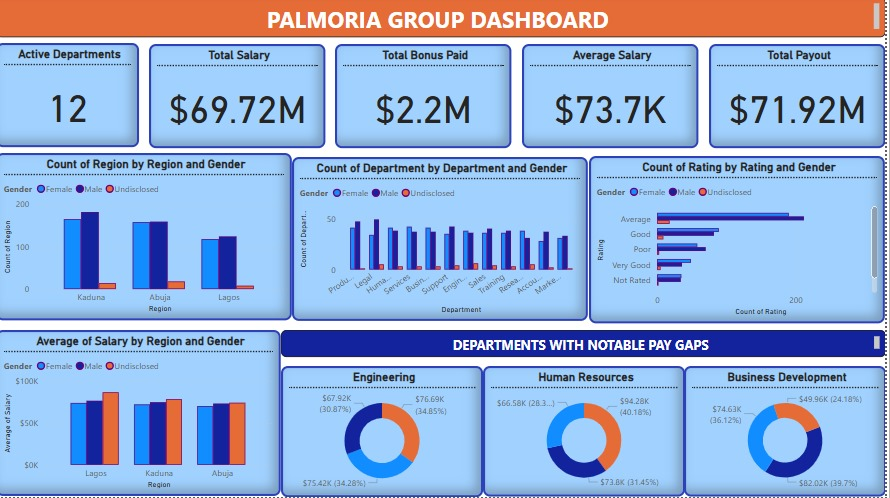

Layout of this report page (visuals, bound fields, positions):
{"tool":"powerbi","page":{"name":"Page 1","canvas":[1280,720],"ordinal":0},"visuals":[{"type":"textbox","box":[0,0,1280.7,57.8],"z":0},{"type":"clusteredColumnChart","fields":{"Category":["Palmoria Merged.Region"],"Series":["Palmoria Merged.Gender"],"Y":["CountNonNull(Palmoria Merged.Region)"]},"box":[0,225.1,426,241],"z":1000},{"type":"clusteredBarChart","fields":{"Category":["Palmoria Merged.Rating"],"Y":["CountNonNull(Palmoria Merged.Rating)"],"Series":["Palmoria Merged.Gender"]},"box":[854.5,229,426.2,241],"z":2000},{"type":"clusteredColumnChart","fields":{"Series":["Palmoria Merged.Gender"],"Y":["Avg(Palmoria Merged.Salary)"],"Category":["Palmoria Merged.Region"]},"box":[0,480,410.3,239],"z":3000},{"type":"donutChart","title":"Business Development","fields":{"Y":["Avg(Palmoria Merged.Salary)"],"Category":["Palmoria Merged.Gender"],"Series":["Palmoria Merged.Department"]},"box":[990,531.1,291.1,187.8],"z":4000},{"type":"donutChart","title":"Engineering","fields":{"Y":["Avg(Palmoria Merged.Salary)"],"Category":["Palmoria Merged.Gender","Palmoria Merged.Department"]},"box":[410,531,291,189],"z":5000},{"type":"donutChart","title":"Human Resources","fields":{"Y":["Avg(Palmoria Merged.Salary)"],"Category":["Palmoria Merged.Gender","Palmoria Merged.Department"]},"box":[701,531,291,188],"z":6000},{"type":"textbox","box":[410,480,871,39],"z":7000},{"type":"card","title":"Active Departments","fields":{"Values":["Count(Palmoria Merged.Department)"]},"box":[0,66,206,150],"z":8000},{"type":"card","title":"Total Salary","fields":{"Values":["Sum(Palmoria Merged.Salary)"]},"box":[220,68,254,150],"z":9000},{"type":"card","title":"Total Bonus Paid","fields":{"Values":["Sum(Palmoria Merged.Annual Bonus)"]},"box":[488,68,254,150],"z":10000},{"type":"card","title":"Average Salary","fields":{"Values":["Avg(Palmoria Merged.Salary)"]},"box":[758,68,254,150],"z":11000},{"type":"card","title":"Total Payout","fields":{"Values":["Sum(Palmoria Merged.Total Pay)"]},"box":[1026,68,254,150],"z":12000},{"type":"clusteredColumnChart","fields":{"Category":["Palmoria Merged.Department"],"Series":["Palmoria Merged.Gender"],"Y":["CountNonNull(Palmoria Merged.Department)"]},"box":[426,230,426,236],"z":13000}]}

Visuals, with their boxes in screenshot pixels (x1, y1, x2, y2), scaled from the page's 1280x720 canvas onto the 890x498 screenshot:
textbox: (left=0, top=0, right=889, bottom=40)
clusteredColumnChart - Palmoria Merged.Region x Palmoria Merged.Gender: (left=0, top=156, right=296, bottom=322)
clusteredBarChart - Palmoria Merged.Rating x CountNonNull(Palmoria Merged.Rating): (left=594, top=158, right=889, bottom=325)
clusteredColumnChart - Palmoria Merged.Gender x Avg(Palmoria Merged.Salary): (left=0, top=332, right=285, bottom=497)
"Business Development" donutChart: (left=688, top=367, right=889, bottom=497)
"Engineering" donutChart: (left=285, top=367, right=487, bottom=497)
"Human Resources" donutChart: (left=487, top=367, right=690, bottom=497)
textbox: (left=285, top=332, right=889, bottom=359)
"Active Departments" card: (left=0, top=46, right=143, bottom=149)
"Total Salary" card: (left=153, top=47, right=330, bottom=151)
"Total Bonus Paid" card: (left=339, top=47, right=516, bottom=151)
"Average Salary" card: (left=527, top=47, right=704, bottom=151)
"Total Payout" card: (left=713, top=47, right=889, bottom=151)
clusteredColumnChart - Palmoria Merged.Department x Palmoria Merged.Gender: (left=296, top=159, right=592, bottom=322)
